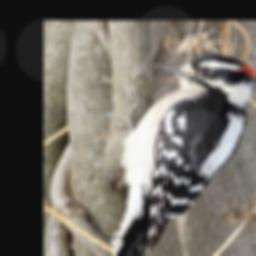Woodpecker: (107, 53, 256, 256)
